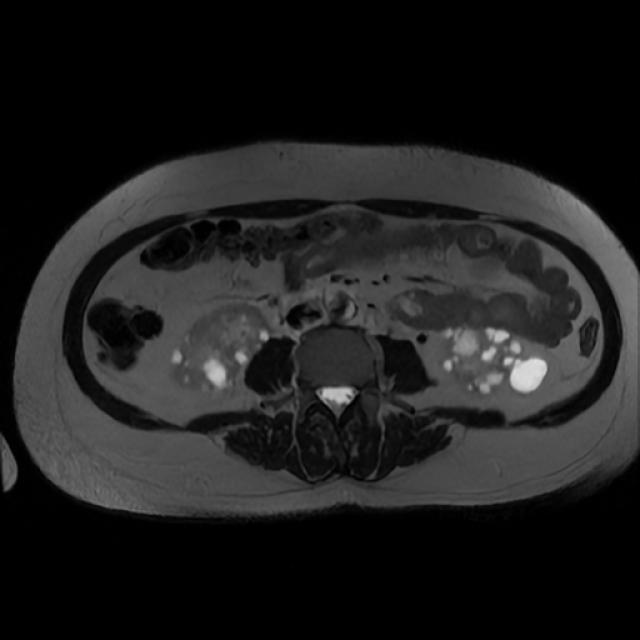sag: (170, 301, 270, 389)
sol: (443, 325, 549, 394)
